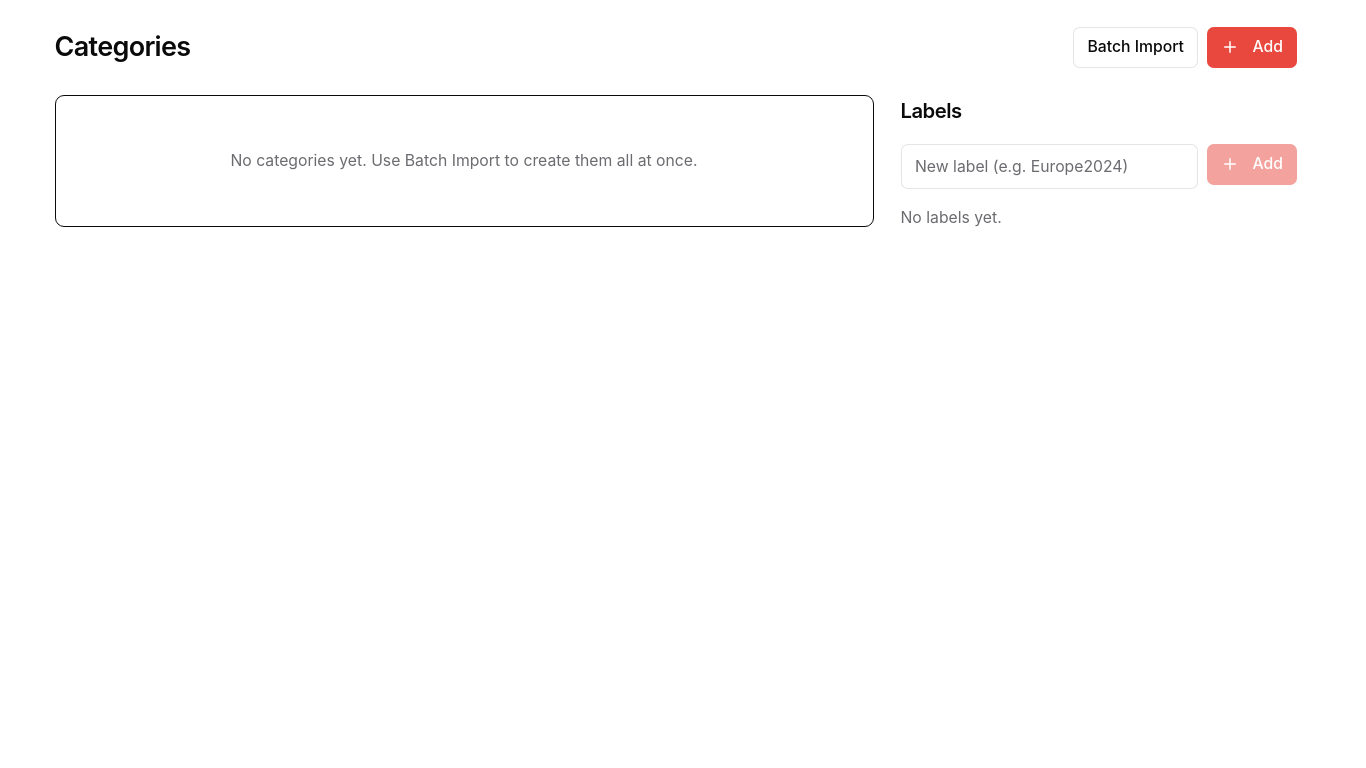
Categories accessibility › shows category-save failures inside the open dialog
The image size is (1366, 768).
Step 1. Click the 1st button "Add" → (1252, 47), box x1=1208 y1=27 x2=1296 y2=68
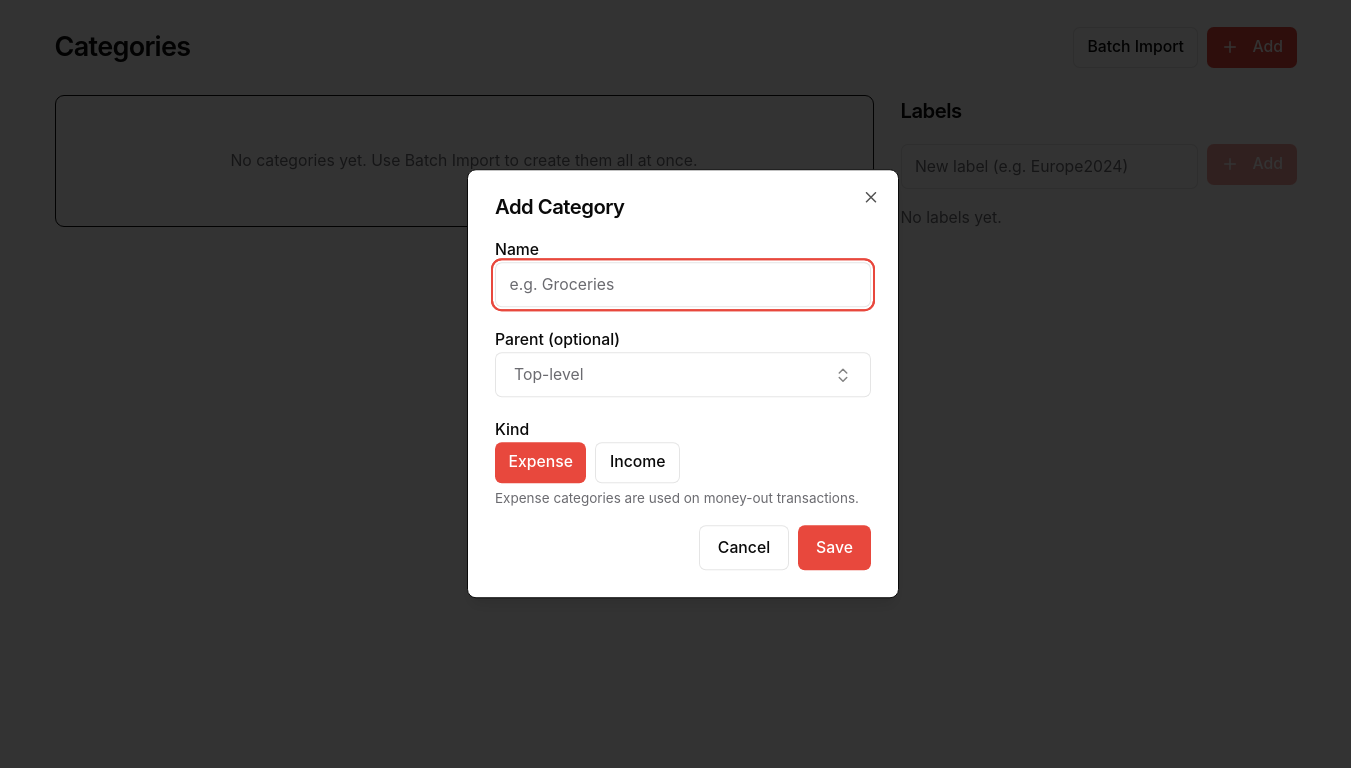
Step 2. Type "Groceries" into the field labelled "Name" → (683, 285), box x1=495 y1=262 x2=871 y2=308
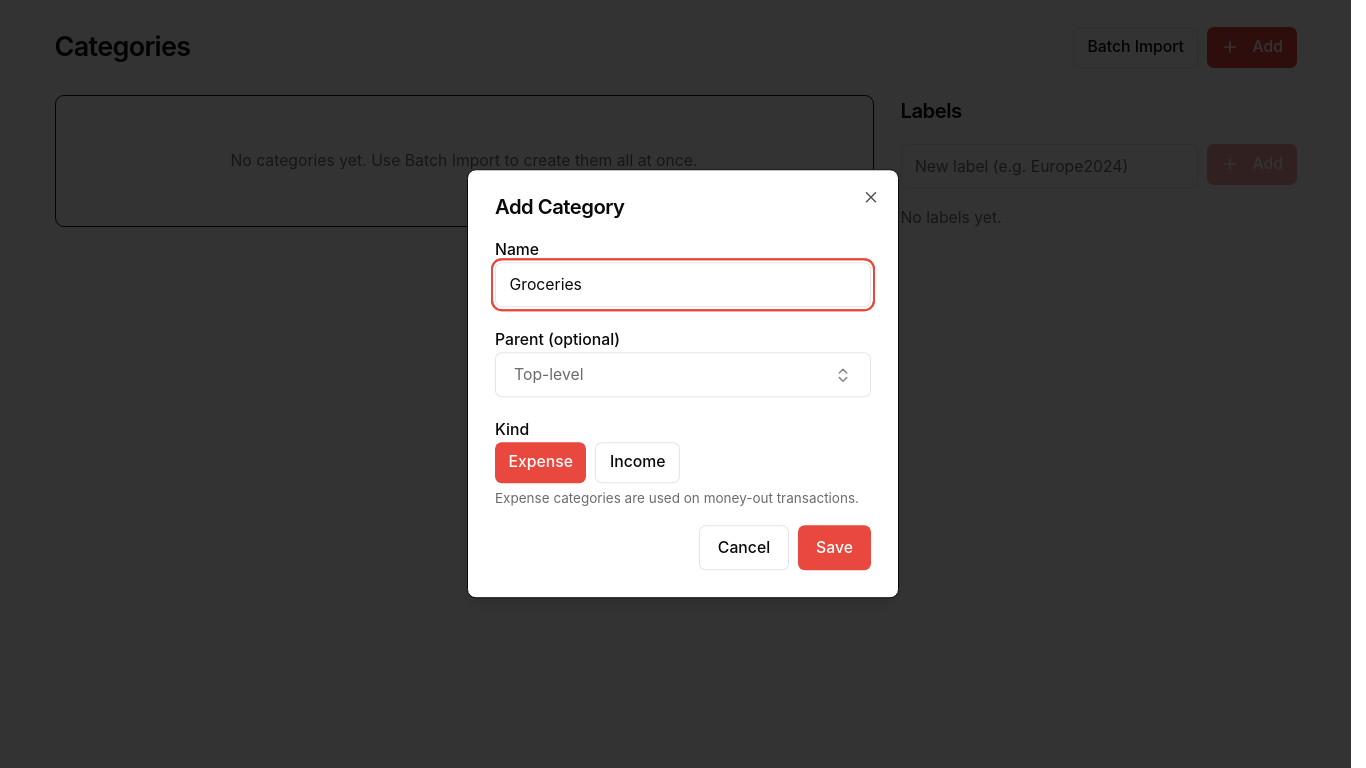
Step 3. Submit the form named "Save", box x1=495 y1=236 x2=871 y2=571
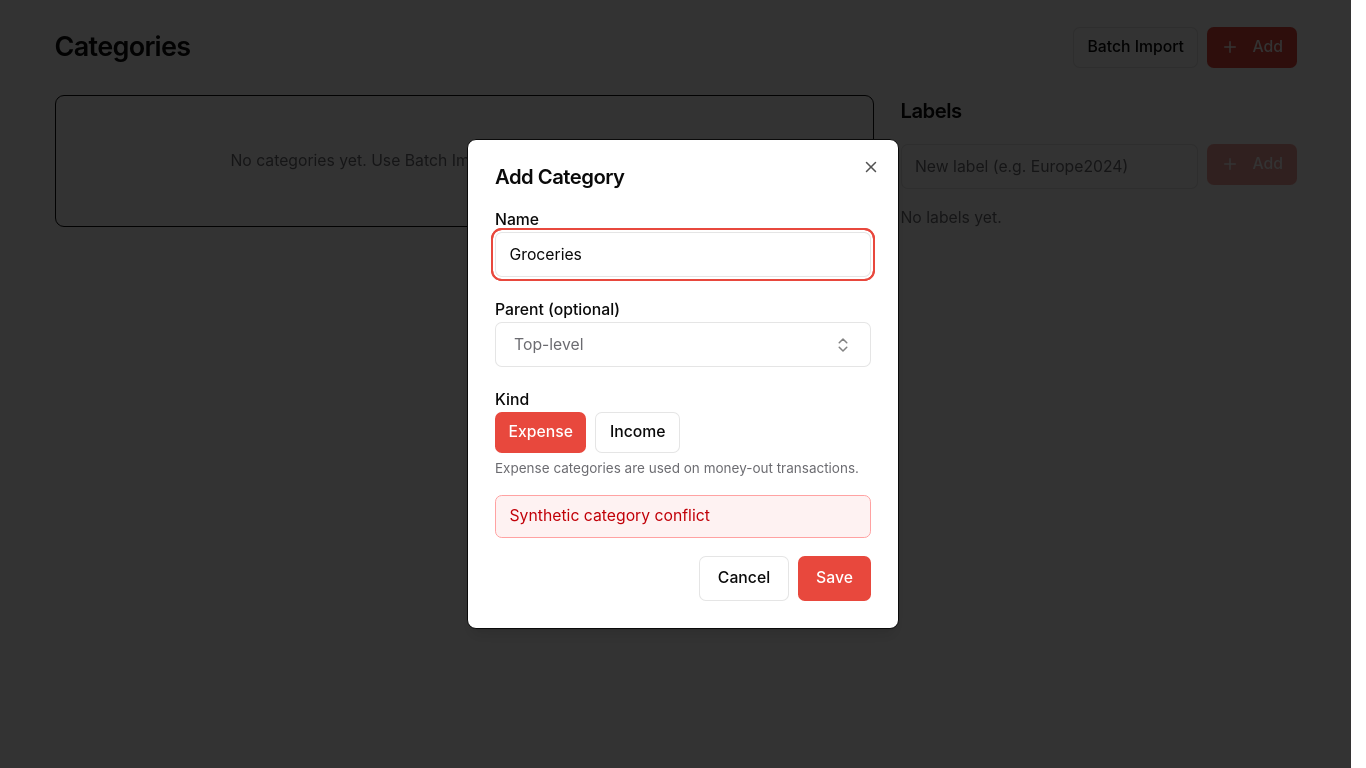
Check: the dialog "Add Category" is shown, box x1=467 y1=139 x2=899 y2=629
Check: the message reads "Synthetic category conflict", box x1=510 y1=506 x2=710 y2=526
